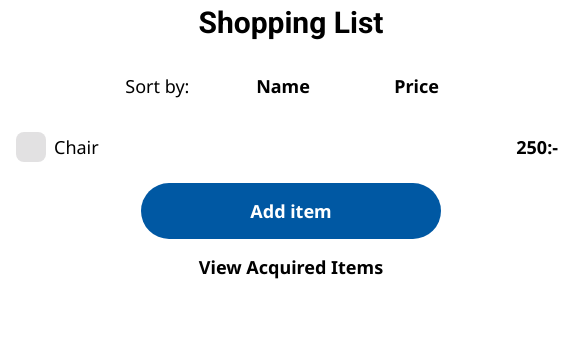
Test: should hide acquired items when the Hide Acquired Items button is clicked
Click the button "View Acquired Items" at (291, 267), box top-left (199, 255), bottom-right (383, 279)
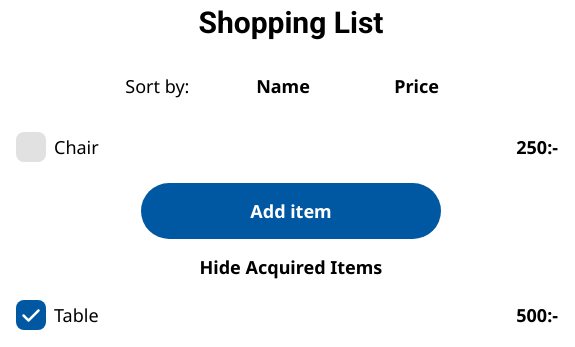
Click the button "Hide Acquired Items" at (291, 267), box top-left (200, 255), bottom-right (382, 279)
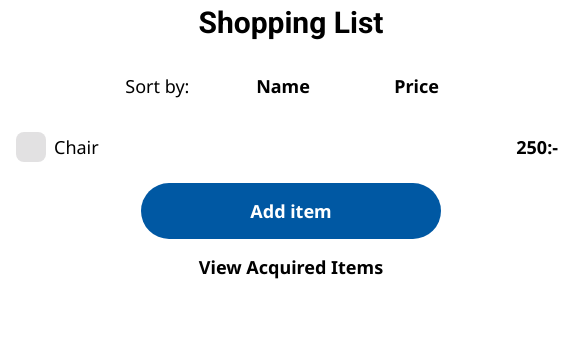
Check: the text "Table" is gone
